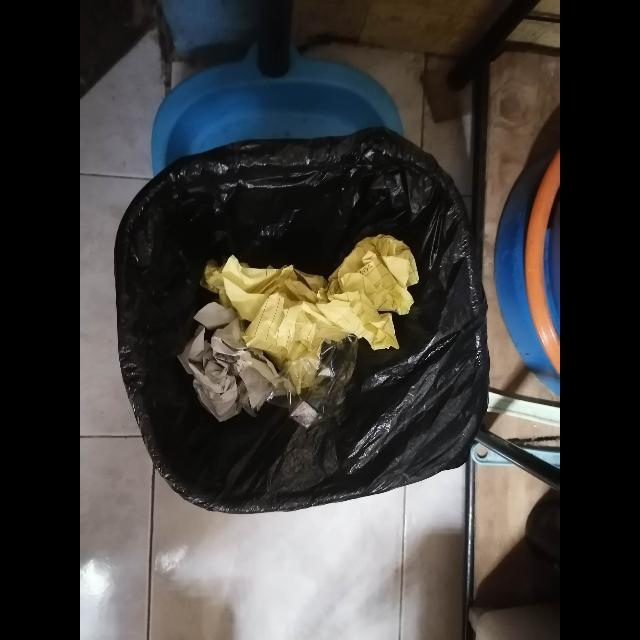paper: (221, 235, 419, 394), (179, 304, 295, 423)
